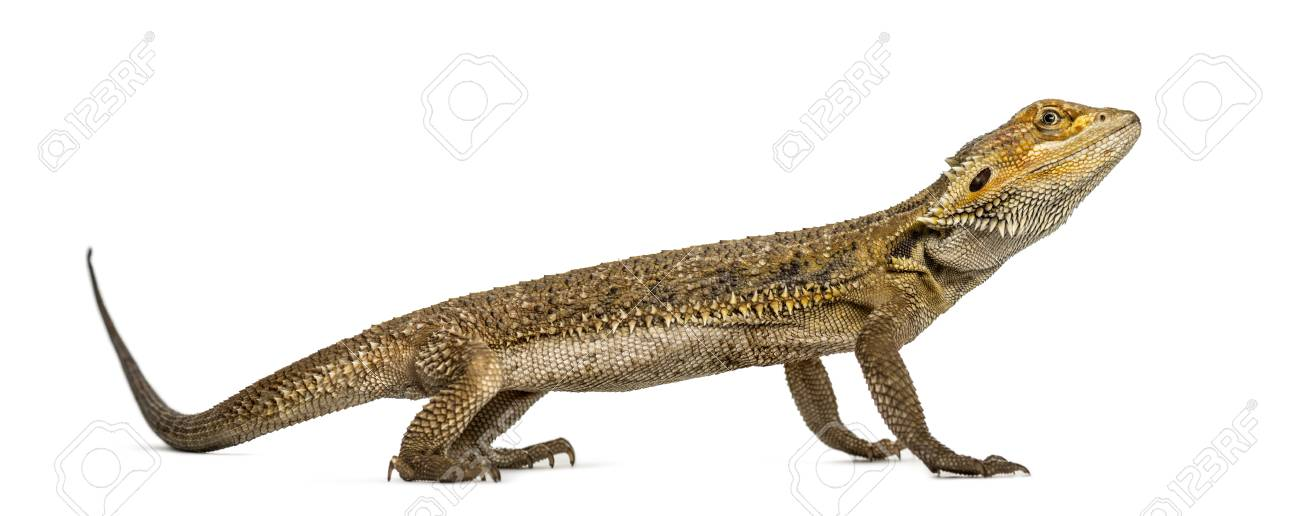bearded: (82, 95, 1155, 484)
